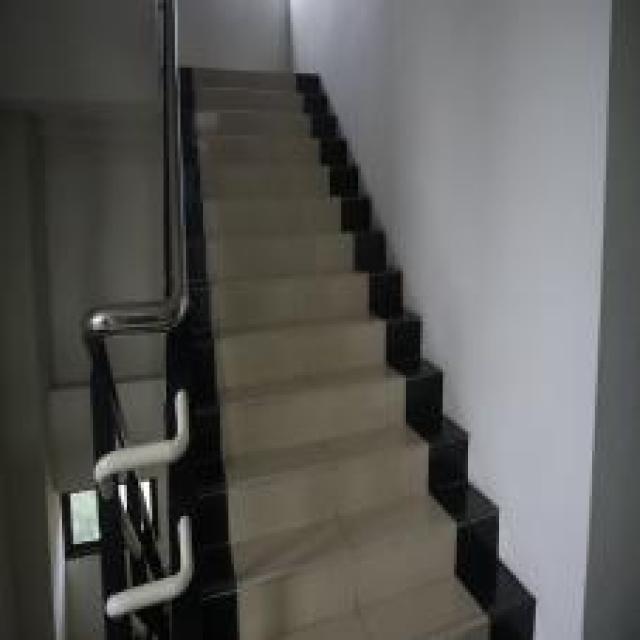upstair: (189, 56, 443, 640)
